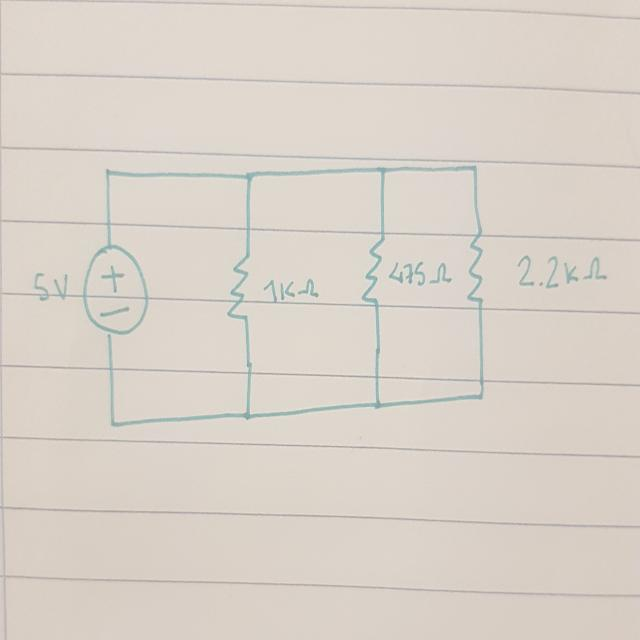junction: (370, 395, 384, 413), (376, 160, 389, 178), (244, 166, 255, 186), (468, 158, 480, 176), (474, 389, 487, 405), (103, 162, 114, 180), (241, 407, 255, 421), (109, 416, 121, 432)
resistor: (464, 221, 489, 315), (360, 232, 386, 314), (226, 253, 252, 331)
source: (83, 242, 149, 338)
text: (512, 248, 615, 286), (259, 270, 324, 311), (385, 253, 454, 286), (32, 268, 70, 306)
